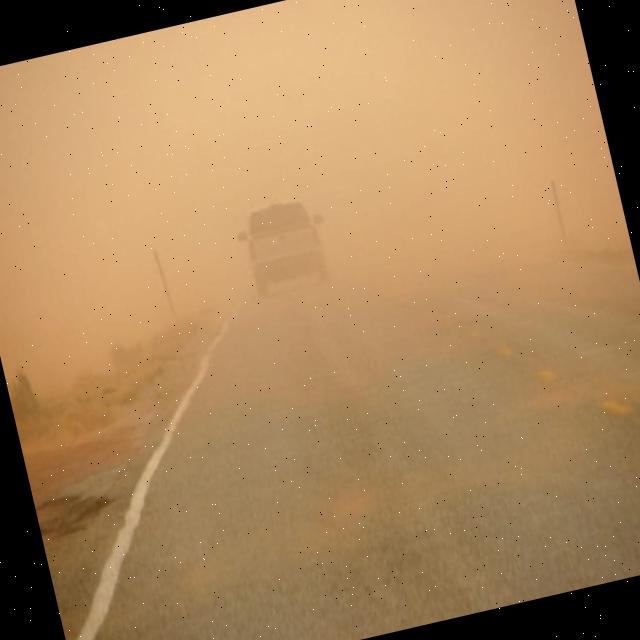car: (229, 189, 340, 304)
